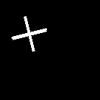single_crochet: (12, 17, 46, 50)
